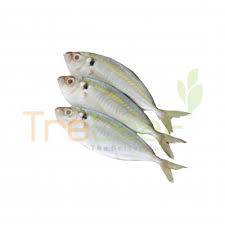Ikan Selar: (39, 107, 177, 170), (48, 72, 145, 116), (56, 46, 164, 77)
